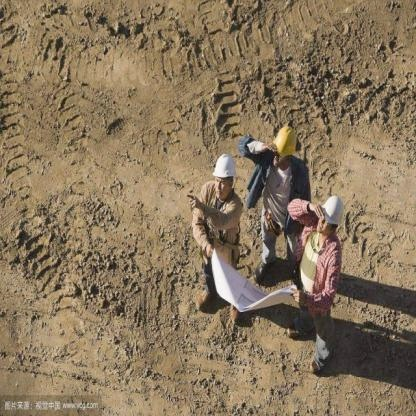white: (318, 193, 348, 232), (210, 148, 238, 183)
yellow: (268, 123, 300, 156)
